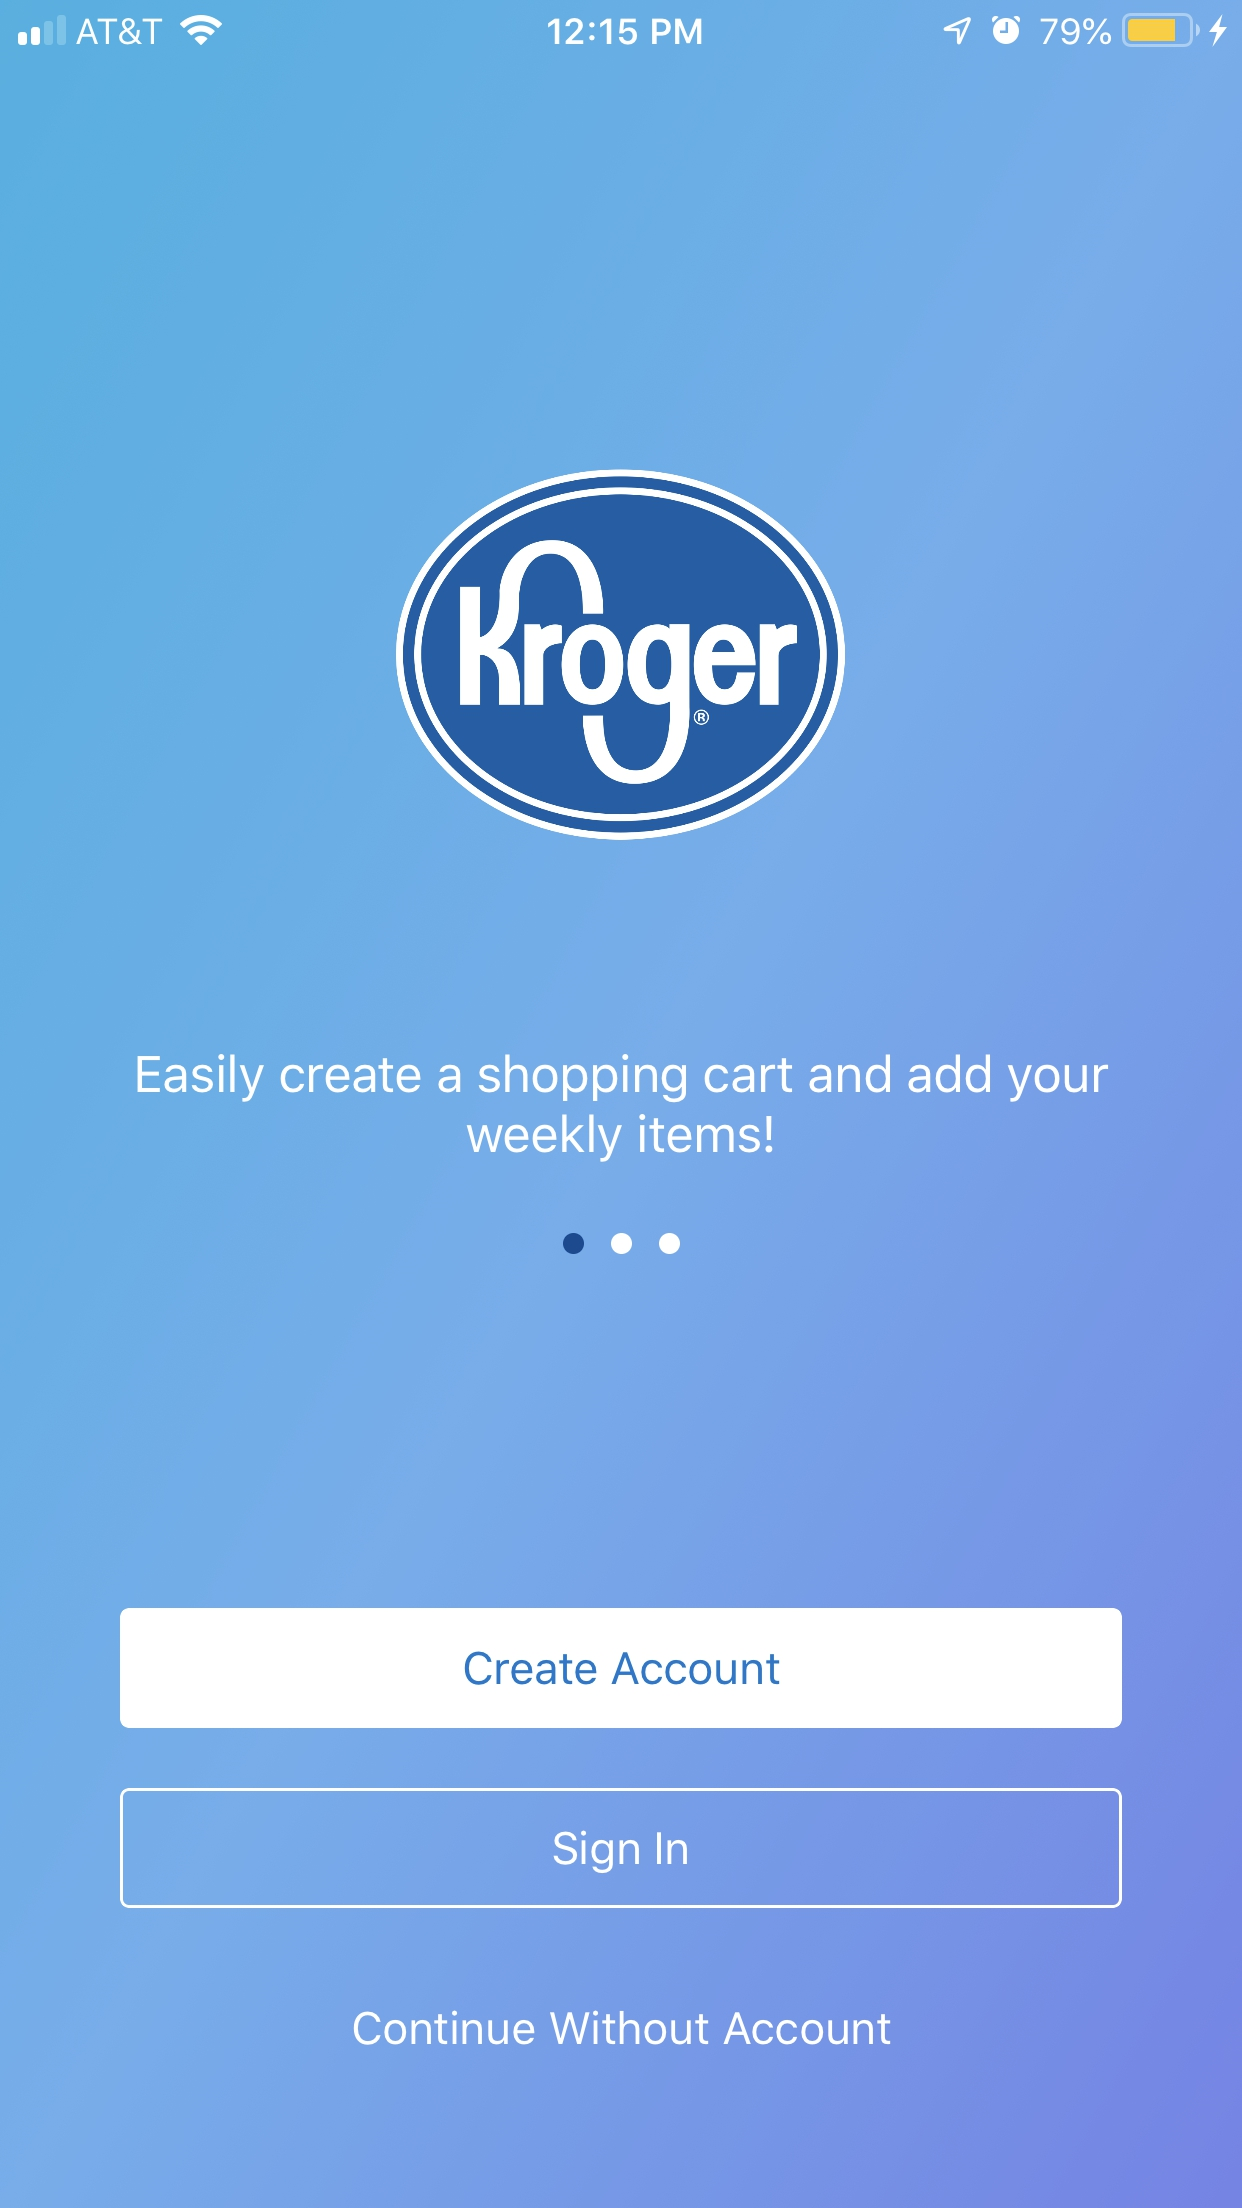Image: (394, 469, 846, 842)
PageIndicator: (563, 1231, 682, 1256)
Text: (136, 1052, 1110, 1165), (353, 2009, 892, 2046)
TextButton: (120, 1786, 1124, 1909), (120, 1607, 1124, 1729)
UpperTaskBar: (2, 2, 1242, 49)
